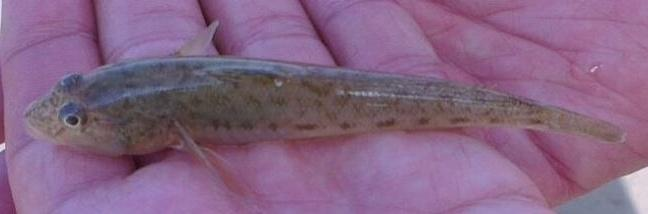Goby: (21, 16, 631, 214)
